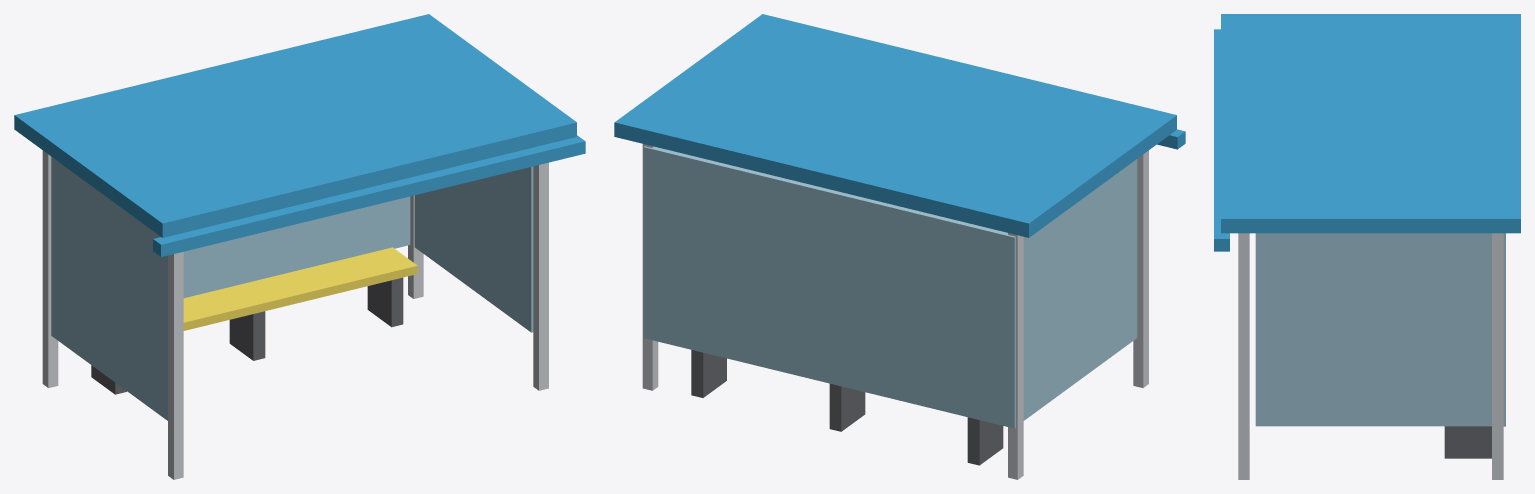
File: bus-station-and-city-transit-platform-shelter-unit-7cbe006a__34206.glb
3 views of the same model, side by side, from view 1: azimuth 30°, elevation 25°; view 2: azimuth 150°, elevation 25°; view 3: azimuth 270°, elevation 25° (orthographic).
Parts seen in each view (by area): view 1: platform-shelter-unit-azure, platform-shelter-unit-glass, platform-shelter-unit-steel, platform-shelter-unit-canary, platform-shelter-unit-charcoal; view 2: platform-shelter-unit-glass, platform-shelter-unit-azure, platform-shelter-unit-steel, platform-shelter-unit-charcoal; view 3: platform-shelter-unit-azure, platform-shelter-unit-glass, platform-shelter-unit-steel, platform-shelter-unit-charcoal.
Boxes of the visible parts, left/top/right/bottom form: platform-shelter-unit-azure: left=14, top=14, right=585, bottom=256; platform-shelter-unit-glass: left=51, top=157, right=533, bottom=420; platform-shelter-unit-steel: left=42, top=150, right=548, bottom=479; platform-shelter-unit-canary: left=183, top=247, right=417, bottom=330; platform-shelter-unit-charcoal: left=91, top=277, right=403, bottom=394; platform-shelter-unit-glass: left=643, top=146, right=1137, bottom=428; platform-shelter-unit-azure: left=614, top=14, right=1185, bottom=237; platform-shelter-unit-steel: left=642, top=144, right=1148, bottom=479; platform-shelter-unit-charcoal: left=691, top=350, right=1003, bottom=465; platform-shelter-unit-azure: left=1214, top=14, right=1520, bottom=251; platform-shelter-unit-glass: left=1255, top=233, right=1505, bottom=426; platform-shelter-unit-steel: left=1238, top=233, right=1503, bottom=479; platform-shelter-unit-charcoal: left=1444, top=426, right=1491, bottom=458.
Size of the model in its own units: 4.3 by 2.59 by 2.66.
